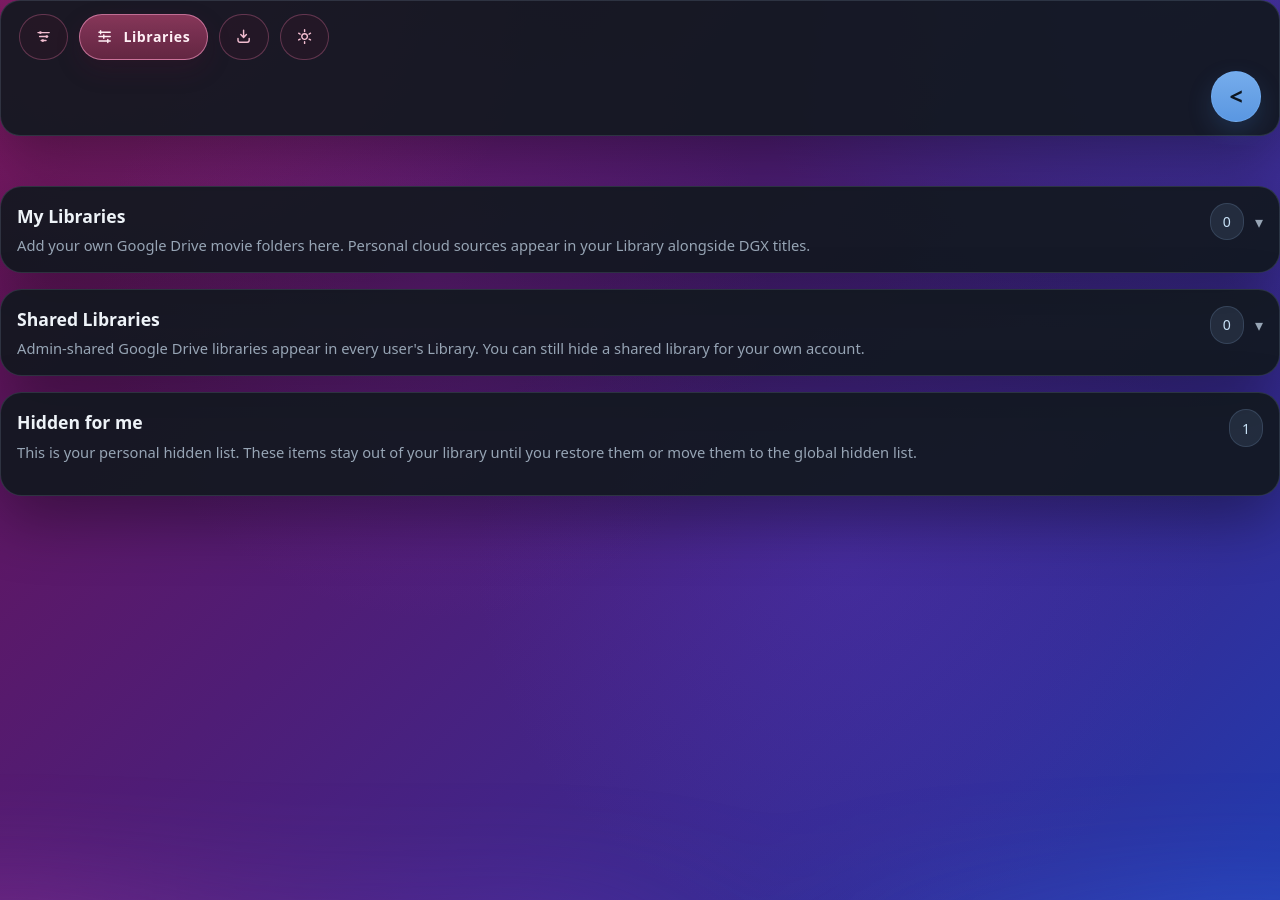
SettingsPage section navigation and consolidation › legacy Hidden hash restore yields to wheel input and is not replayed
Click the text "Hidden for me": (80, 422) [17,410,143,434]
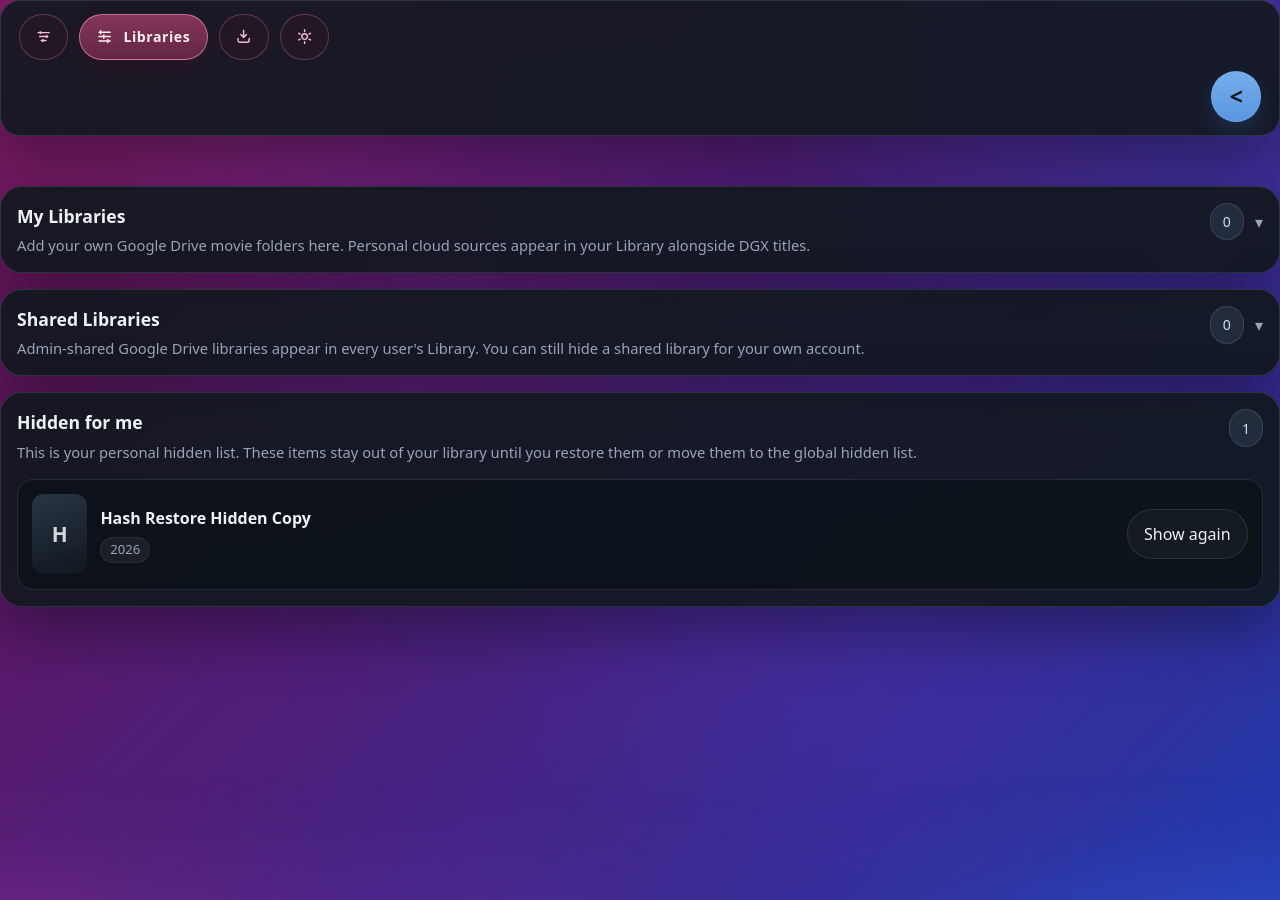
expect the text "Hash Restore Hidden Copy" is shown: met, box [100,507,311,529]
